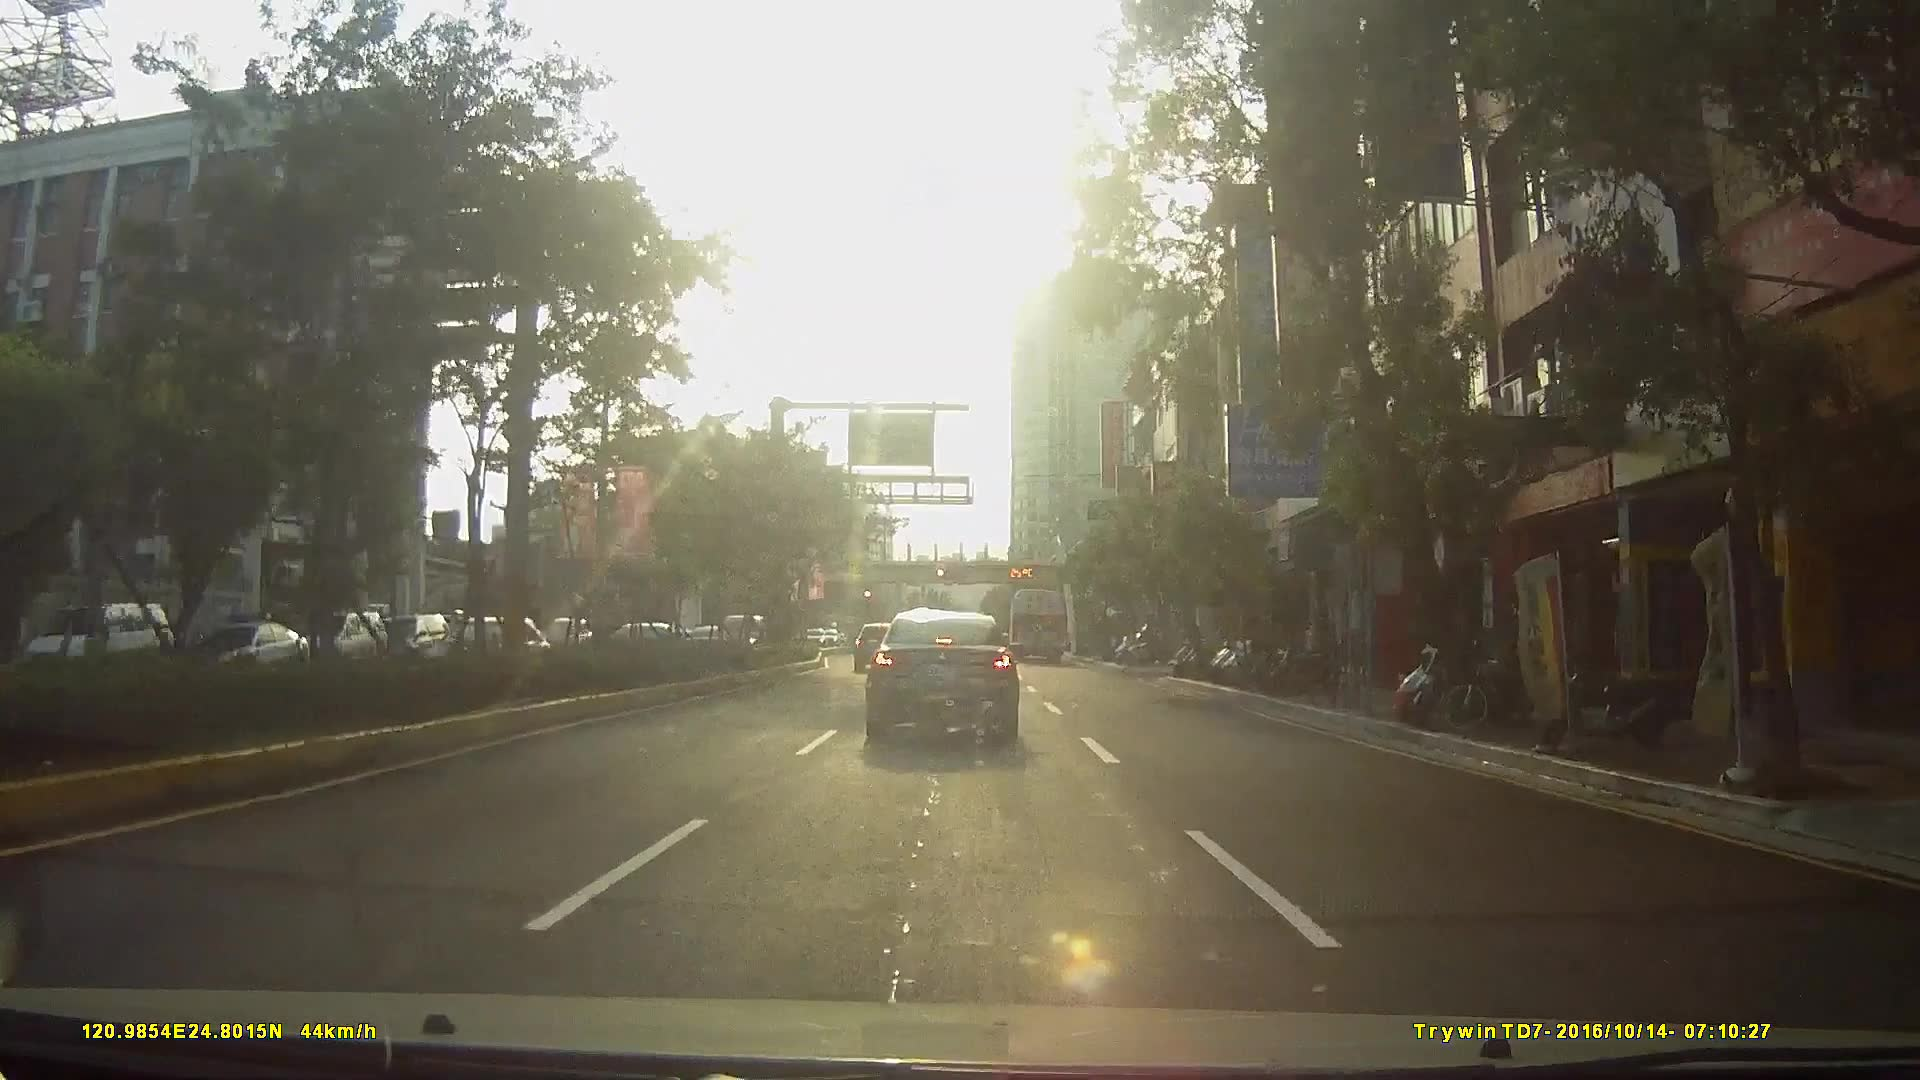vehicle: (861, 608, 1018, 742), (18, 600, 167, 679), (183, 620, 324, 694), (294, 608, 384, 666), (1006, 584, 1069, 661), (371, 612, 444, 667), (475, 612, 538, 653), (851, 621, 898, 671)
